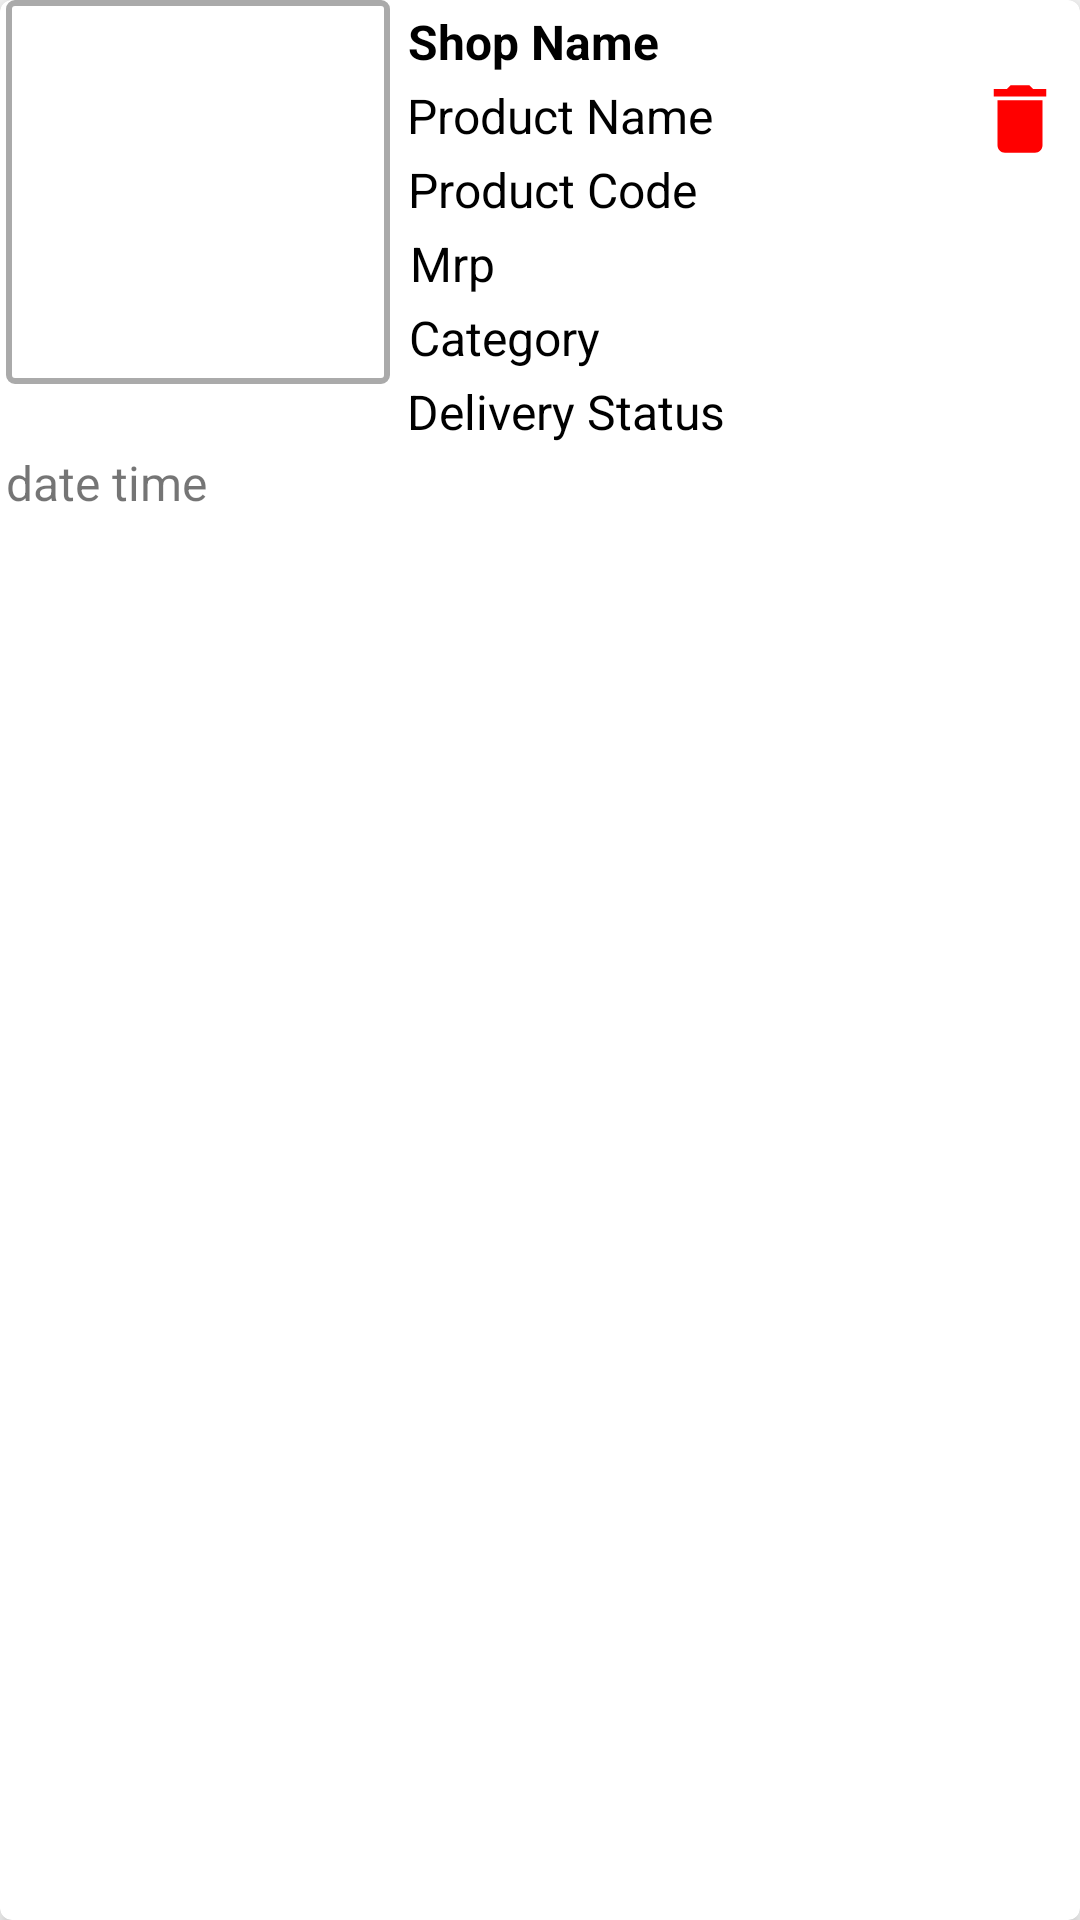

Locate icon controls on the screen. Image size 1080w x 1920h, boxes as box=[x1, y1, x2, y2].
delete: box=[993, 85, 1047, 153]
